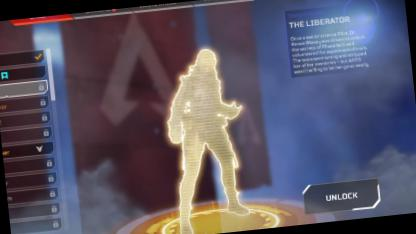Target: (166, 42, 244, 189)
